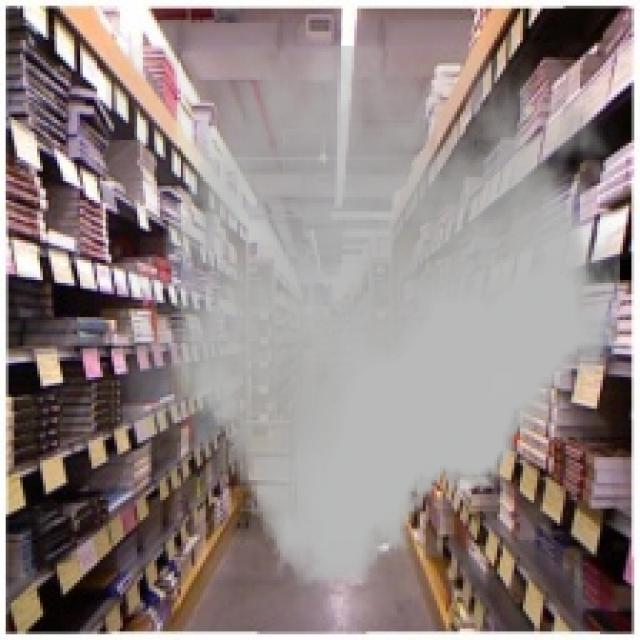smoke: (106, 46, 628, 586)
